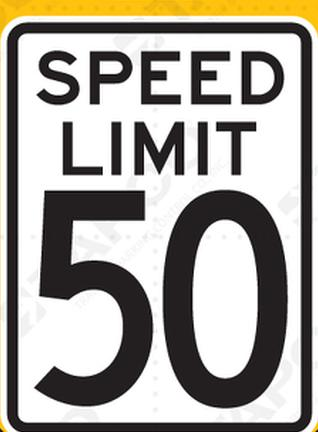Speed Limit -50-: (0, 1, 317, 431)
